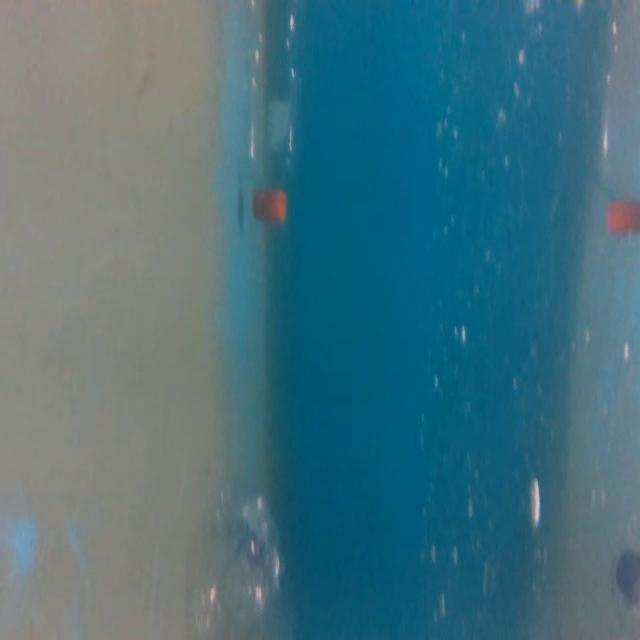plastic bottle: (240, 1, 312, 226)
